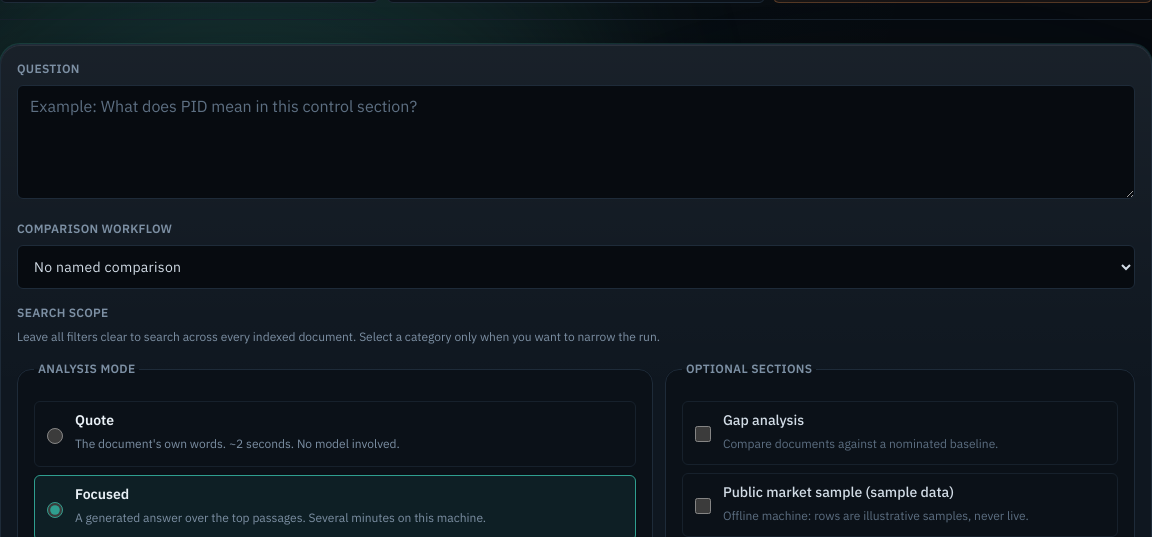
Test: Quote mode does not switch Gap analysis on › says a work-budget result is partial, and says why
Click the radio button labelled "Quote": x=55, y=436 [47, 414, 63, 458]
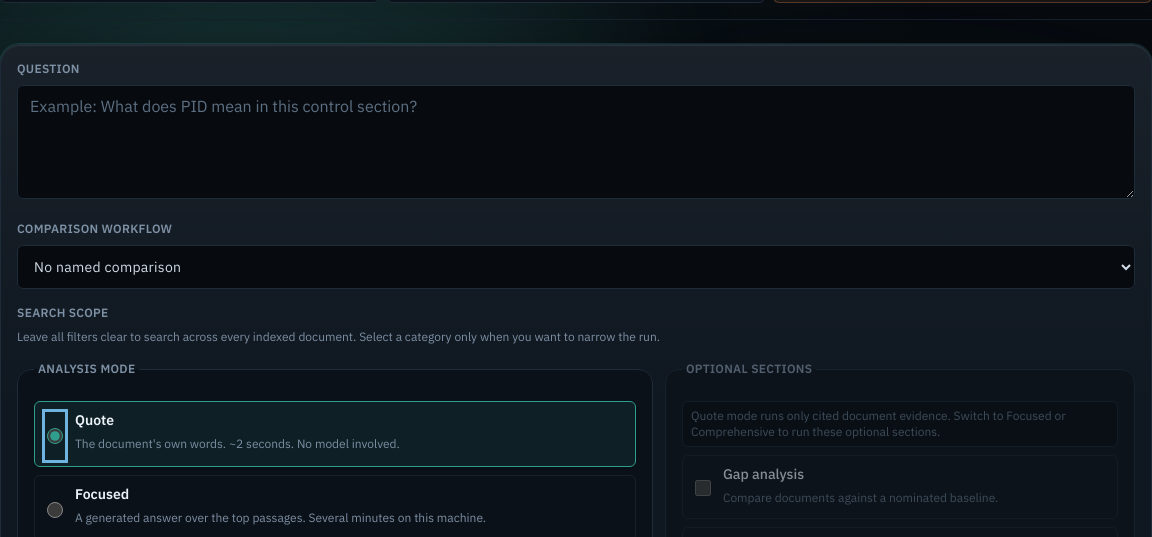
In the text box labelled "Question": x=576, y=142 [17, 85, 1135, 199], type "what is the pressure floor"
(page scrolled)
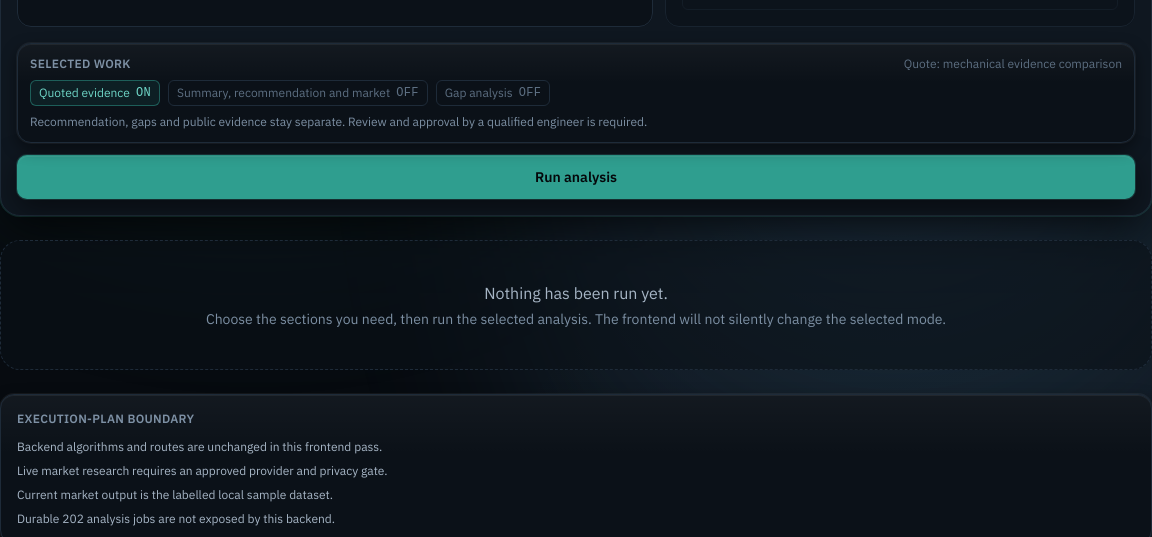
Click the button "Run analysis": x=576, y=177 [17, 155, 1135, 199]
(page scrolled)
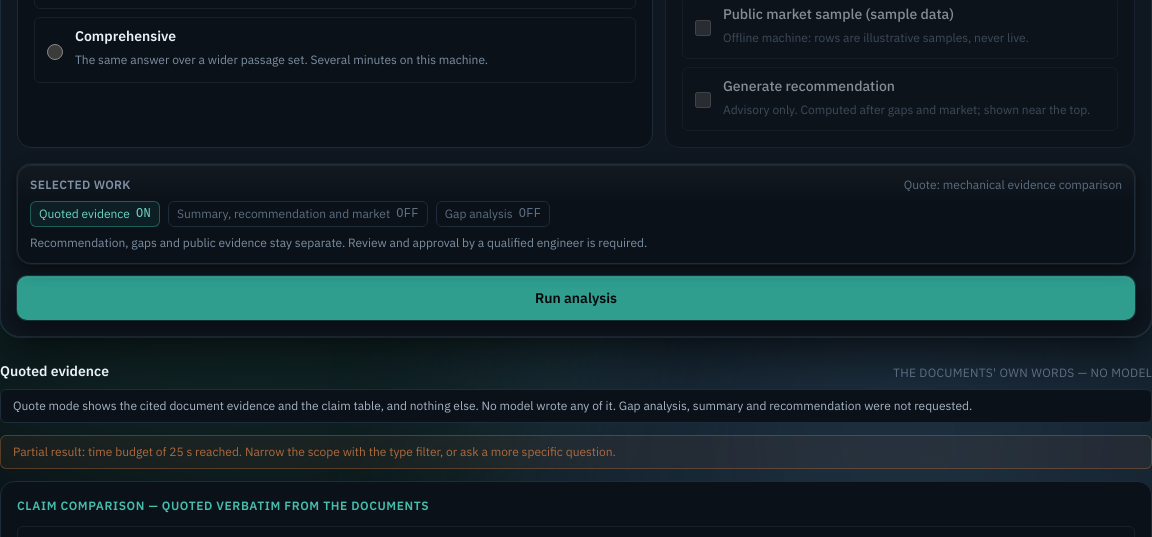
Expected: the text "Partial result: time budget of 25 s reached" is shown, [0, 435, 1151, 469]
